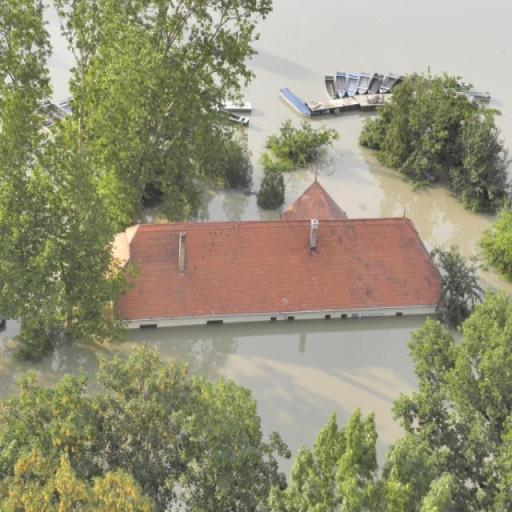flood: (246, 0, 512, 191), (128, 319, 422, 460), (310, 113, 494, 256), (0, 322, 137, 399), (41, 0, 73, 98), (206, 191, 281, 220), (278, 161, 315, 212), (478, 268, 512, 298)
house: (122, 216, 448, 326)
